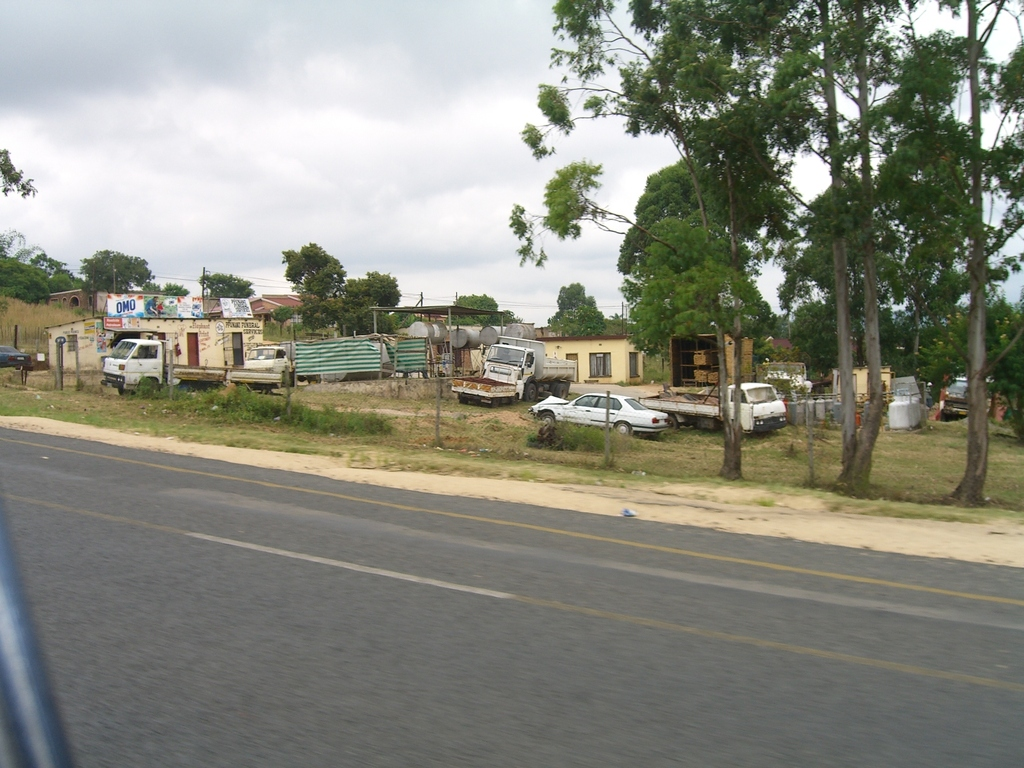cars: (525, 384, 674, 443), (0, 344, 30, 368)
